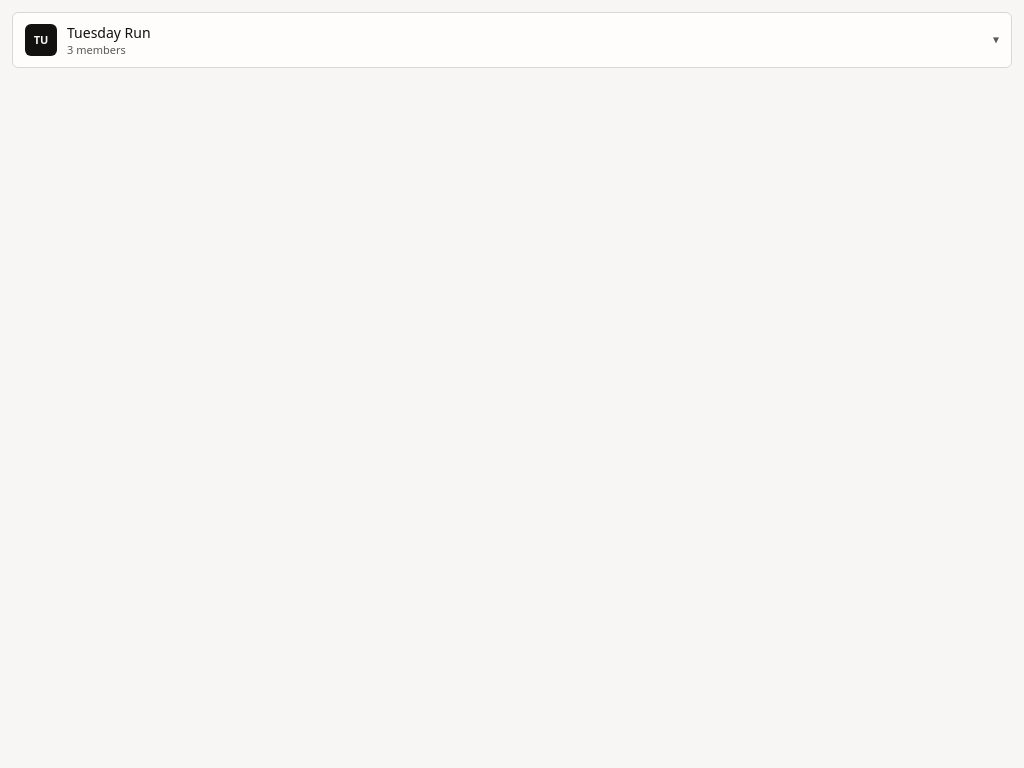
Test: creating a squad › opens a dialog
The width and height of the screenshot is (1024, 768).
Click the button "TU Tuesday Run 3 members ▼" at [41, 40], box top-left (12, 12), bottom-right (1012, 68)
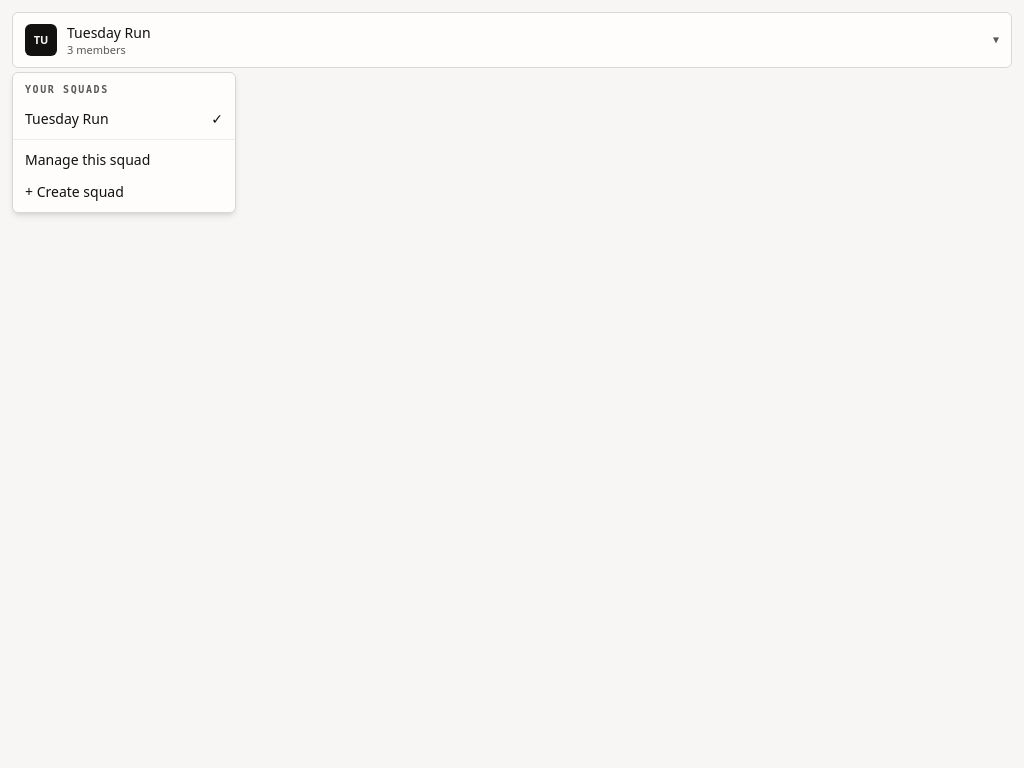
Click the menu item "+ Create squad" at [74, 192], box top-left (25, 182), bottom-right (124, 201)
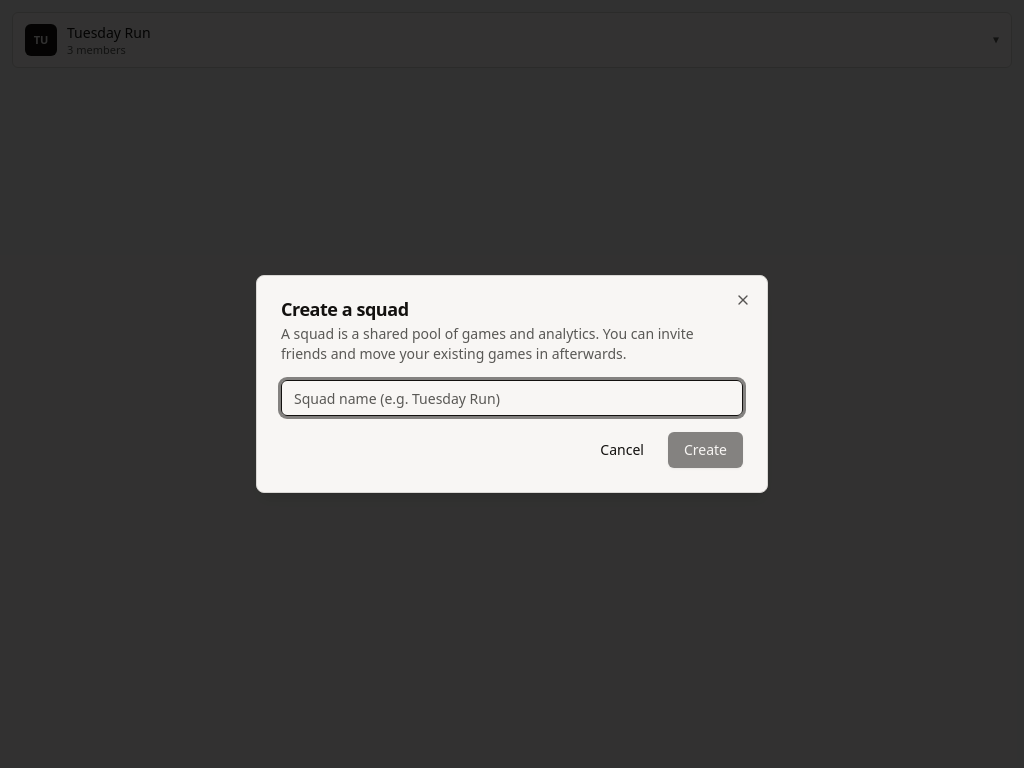
Result: the heading "Create a squad" is shown at top-left (281, 297), bottom-right (409, 321)
